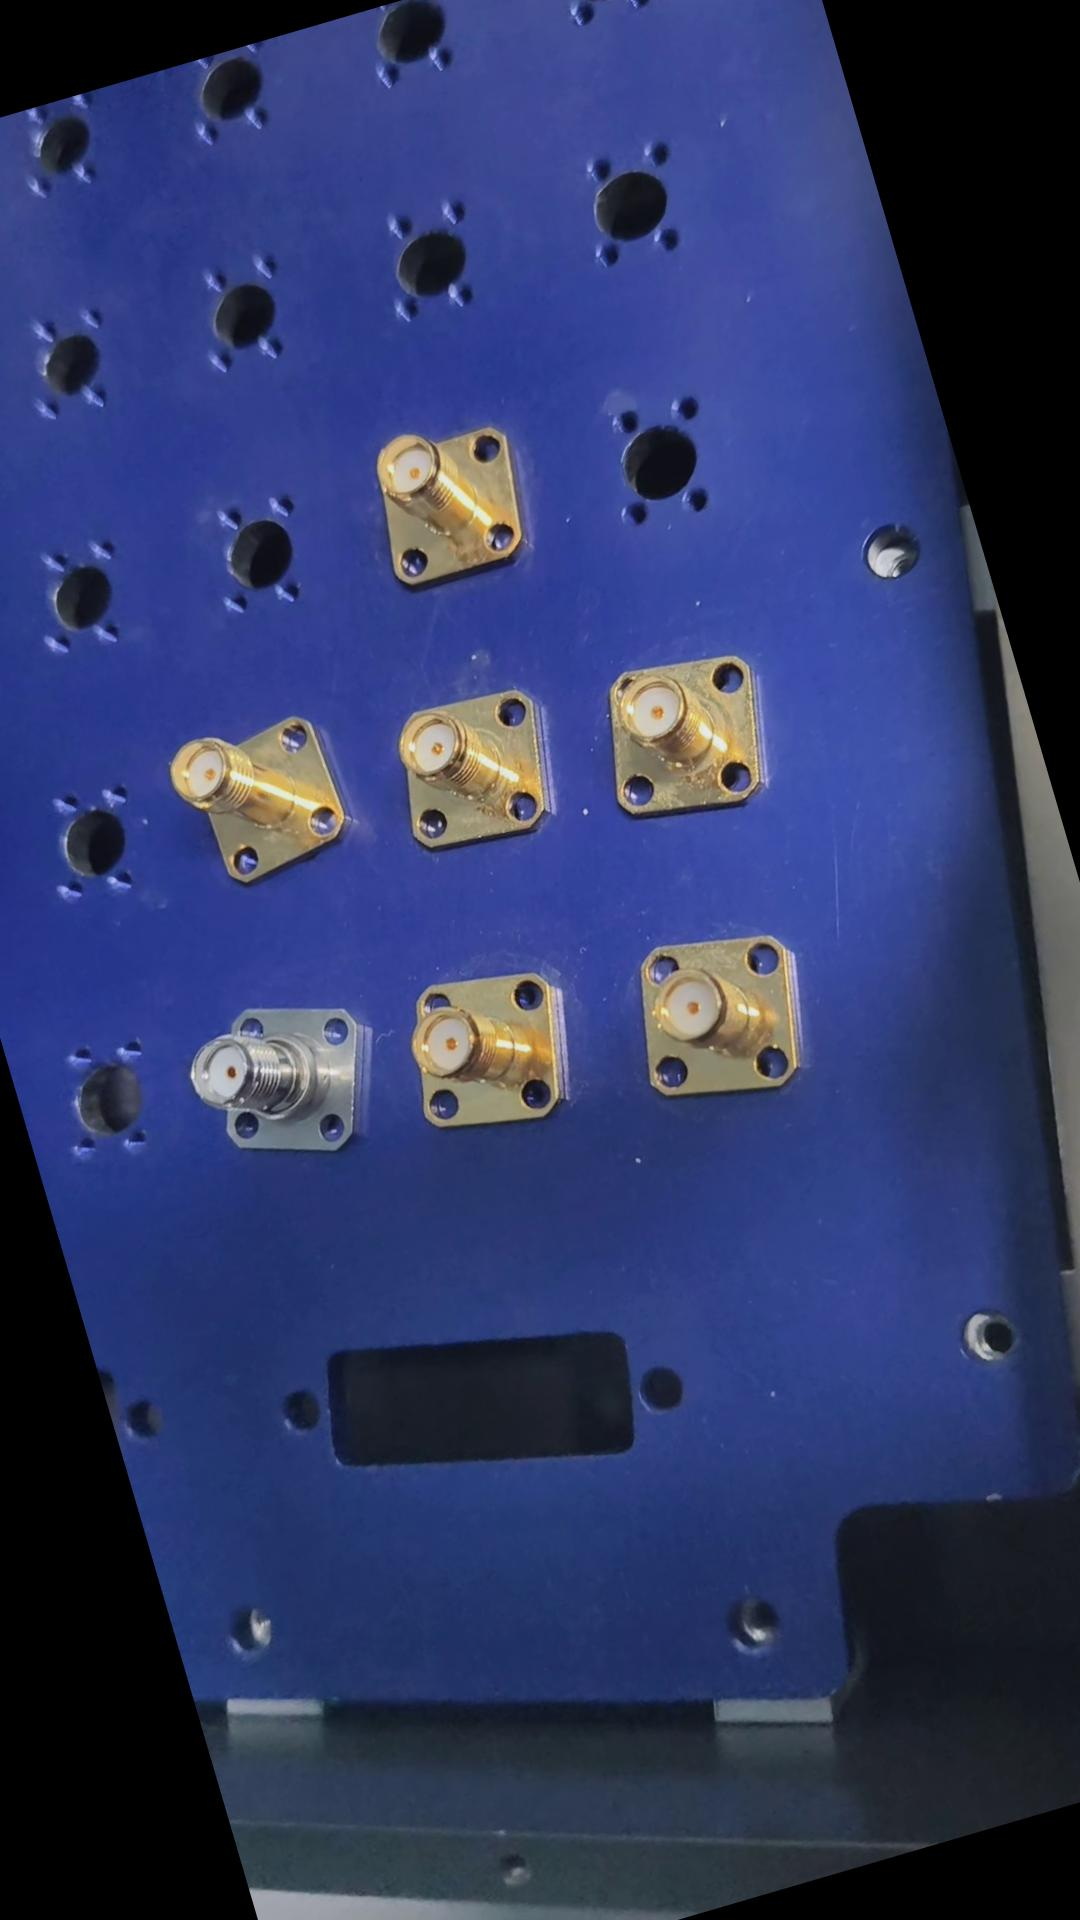SMA: (604, 898, 825, 1126), (382, 938, 595, 1156), (578, 632, 800, 837), (334, 402, 546, 607), (185, 971, 386, 1183), (371, 670, 568, 866), (160, 703, 357, 895)
